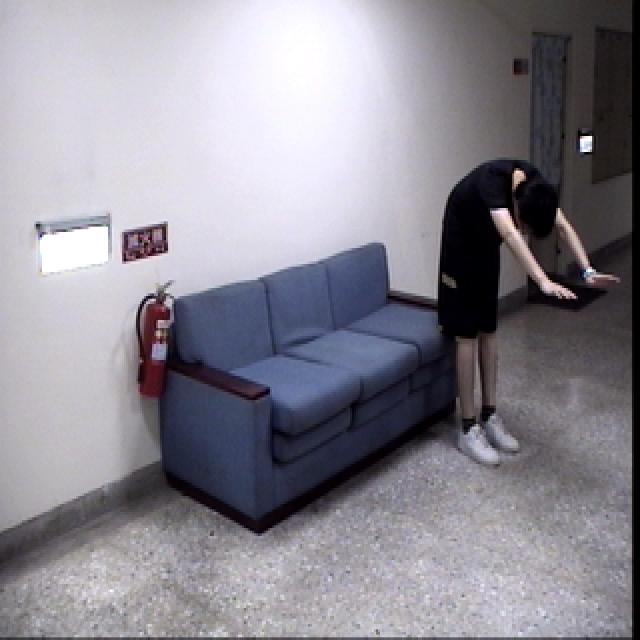bend: (426, 150, 628, 468)
